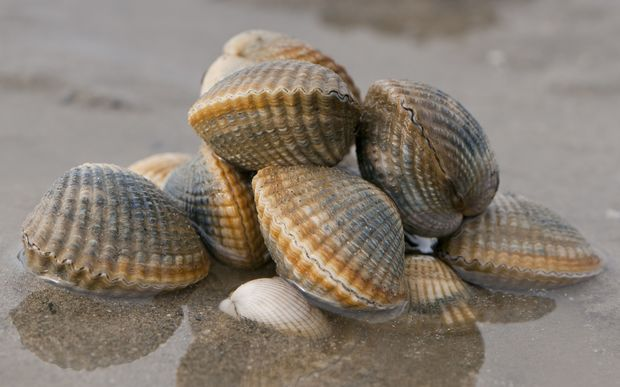cockle: (15, 160, 212, 298), (250, 166, 413, 324), (355, 74, 503, 237), (185, 57, 363, 172), (428, 190, 606, 295), (159, 139, 274, 273), (394, 251, 487, 326)
